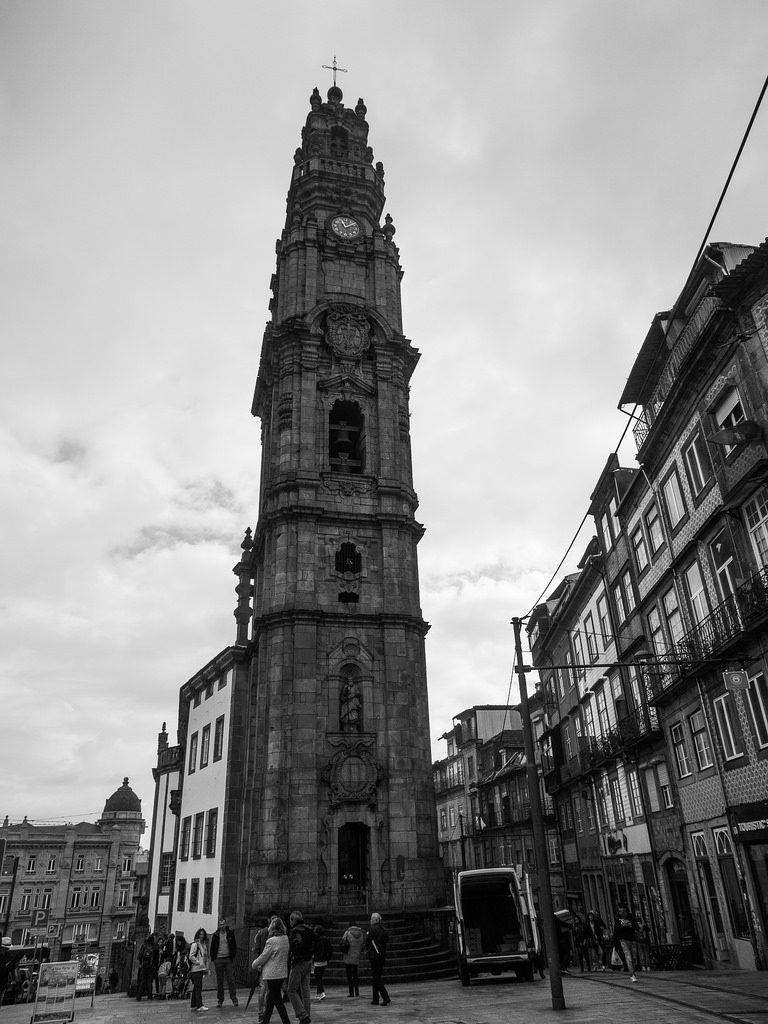clerigos: (215, 57, 459, 983)
